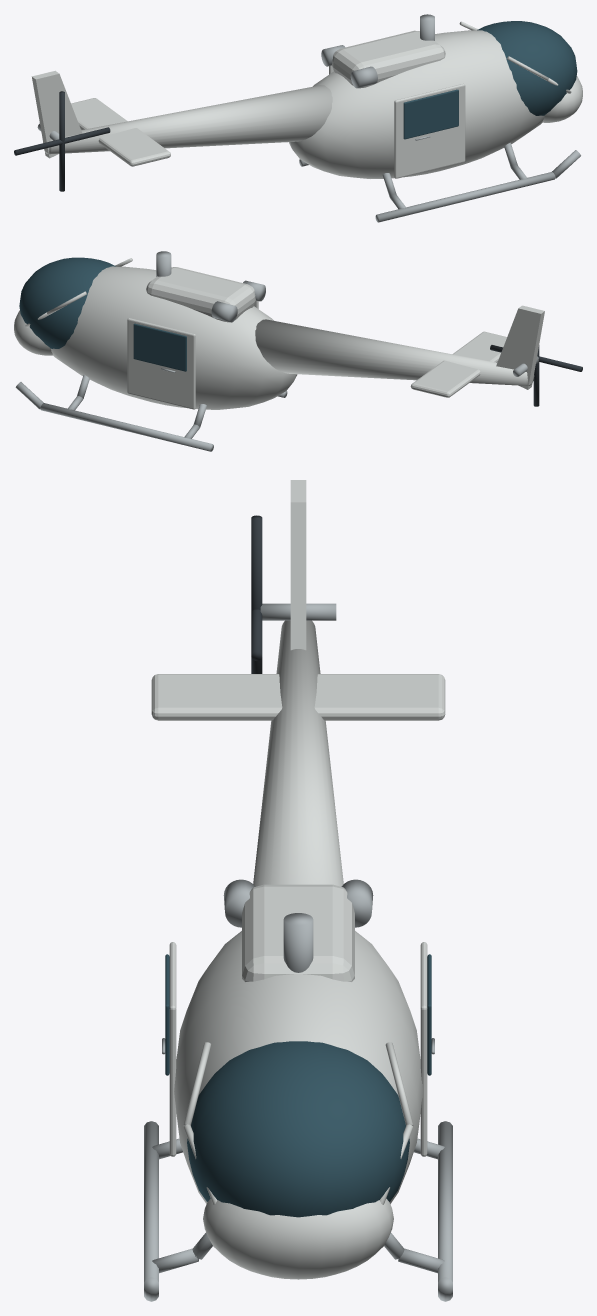
File: SM_Helicopter.fbx
The picture shows the model from 3 angles, top to bottom: view 1: azimuth 30°, elevation 25°; view 2: azimuth 150°, elevation 25°; view 3: azimuth 270°, elevation 25°; orthographic projection. The views are drawn at different scales.
Visible parts, largest first — view 1: SM_Helicopter; view 2: SM_Helicopter; view 3: SM_Helicopter.
Part boxes in pixels (x1,y1,x2,y2): SM_Helicopter: [14, 14, 582, 222]; SM_Helicopter: [14, 251, 582, 451]; SM_Helicopter: [144, 480, 452, 1301].
Bounding box in the file's own units: 1036 × 252 × 332.
